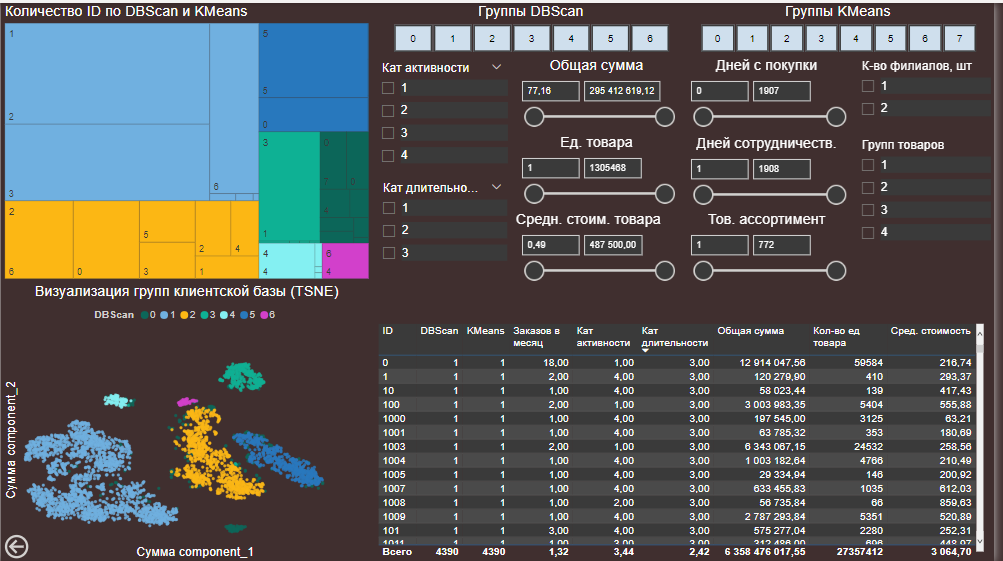

The page's visual inventory and layout, read from the dashboard file:
{"tool":"powerbi","page":{"name":"Панель выгрузки","canvas":[1280,720],"ordinal":0},"visuals":[{"type":"actionButton","box":[0,679.8,100.6,40.2],"z":0},{"type":"scatterChart","title":"Визуализация групп клиентской базы (TSNE)","fields":{"Category":["2d_mapping.ID"],"X":["Sum(2d_mapping.component_1)"],"Y":["Sum(2d_mapping.component_2)"],"Series":["Clustering_results.DBScan"]},"box":[0,360,478.3,360],"z":1000},{"type":"treemap","fields":{"Values":["CountNonNull(Clustering_results.ID)"],"Group":["Clustering_results.DBScan"],"Details":["Clustering_results.KMeans"]},"box":[0,0,478.6,360],"z":2000},{"type":"slicer","title":"Группы DBScan","fields":{"Values":["Clustering_results.DBScan"]},"box":[480,0,404.3,70],"z":3000},{"type":"slicer","title":"Группы KMeans","fields":{"Values":["Clustering_results.KMeans"]},"box":[875.7,0,404.3,70],"z":4000},{"type":"slicer","fields":{"Values":["Сводная клиентов.Категория активности клиента"]},"box":[478.1,69.3,179.6,154.2],"z":5000},{"type":"slicer","fields":{"Values":["Сводная клиентов.Категория по длительности сотрудничества,"]},"box":[479.5,223.5,178.2,120.2],"z":6000},{"type":"tableEx","fields":{"Values":["Clustering_results.ID","CountNonNull(Clustering_results.DBScan)","CountNonNull(Clustering_results.KMeans)","Avg(Clustering_results.Дней взаимодействия в месяц)","Avg(Сводная клиентов.Категория активности клиента)","Avg(Сводная клиентов.Категория по длительности сотрудничества,)","Сводная клиентов.Общая сумма покупок","Sum(Сводная клиентов.Общее к-во покупок за все время, шт)","Avg(Сводная клиентов.Средняя стоимость товара, р)"]},"box":[480,408.1,790.4,311.9],"z":7000},{"type":"slicer","title":"Общая сумма","fields":{"Values":["Сводная клиентов.Сумма покупок за все время, руб"]},"box":[657.8,69.3,217.8,99],"z":8000},{"type":"slicer","title":"Ед. товара","fields":{"Values":["Сводная клиентов.Общее к-во покупок за все время, шт"]},"box":[657.8,168.3,217.8,99],"z":9000},{"type":"slicer","title":"Дней с покупки","fields":{"Values":["Сводная клиентов.К-во дней с последней покупки"]},"box":[875.6,69.3,220.7,100.4],"z":10000},{"type":"slicer","title":"Средн. стоим. товара","fields":{"Values":["Сводная клиентов.Средняя стоимость товара, р"]},"box":[657.8,267.3,217.8,99],"z":11000},{"type":"slicer","title":"Дней сотрудничеств.","fields":{"Values":["Сводная клиентов.К-во дней сотрудничества"]},"box":[875.6,169.7,220.7,99],"z":12000},{"type":"slicer","fields":{"Values":["Clustering_results.К-во филиалов, шт"]},"box":[1096.3,66.5,183.9,101.8],"z":13000},{"type":"slicer","title":"Тов. ассортимент","fields":{"Values":["Сводная клиентов.Товарный ассортимент, шт"]},"box":[875.6,267.3,220.7,99],"z":14000},{"type":"slicer","fields":{"Values":["Clustering_results.К-во групп покупаемых товаров, шт"]},"box":[1096.3,168.3,183.9,148.5],"z":15000}]}

Visuals, with their boxes in screenshot pixels (x1, y1, x2, y2), scaled from the page's 1280x720 canvas onto the 1003x561 screenshot:
actionButton: rect(0, 530, 79, 560)
"Визуализация групп клиентской базы (TSNE)" scatterChart: rect(0, 280, 375, 560)
treemap - CountNonNull(Clustering_results.ID) x Clustering_results.DBScan: rect(0, 0, 375, 280)
"Группы DBScan" slicer: rect(376, 0, 693, 55)
"Группы KMeans" slicer: rect(686, 0, 1002, 55)
slicer - Сводная клиентов.Категория активности клиента: rect(375, 54, 515, 174)
slicer - Сводная клиентов.Категория по длительности сотрудничества,: rect(376, 174, 515, 268)
tableEx - Clustering_results.ID x CountNonNull(Clustering_results.DBScan): rect(376, 318, 995, 560)
"Общая сумма" slicer: rect(515, 54, 686, 131)
"Ед. товара" slicer: rect(515, 131, 686, 208)
"Дней с покупки" slicer: rect(686, 54, 859, 132)
"Средн. стоим. товара" slicer: rect(515, 208, 686, 285)
"Дней сотрудничеств." slicer: rect(686, 132, 859, 209)
slicer - Clustering_results.К-во филиалов, шт: rect(859, 52, 1002, 131)
"Тов. ассортимент" slicer: rect(686, 208, 859, 285)
slicer - Clustering_results.К-во групп покупаемых товаров, шт: rect(859, 131, 1002, 247)
